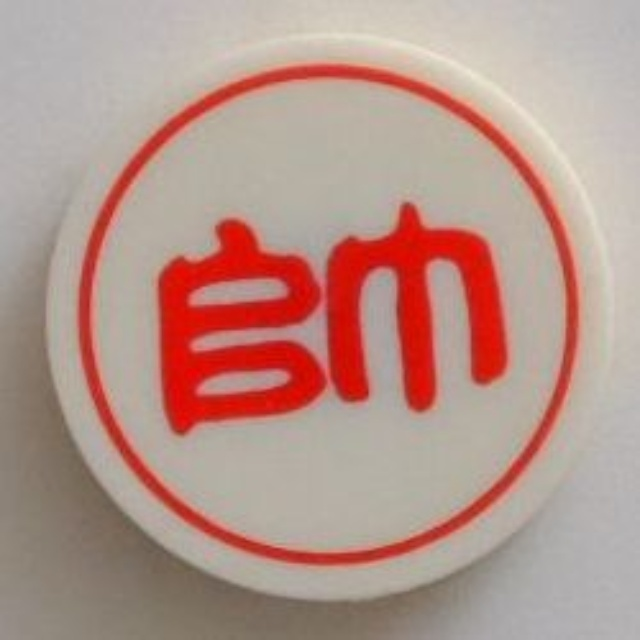red_tuong: (40, 26, 640, 610)
